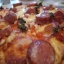pepperoni: (27, 39, 57, 61), (34, 10, 53, 28), (5, 11, 19, 23)
pizza: (1, 3, 63, 64)
